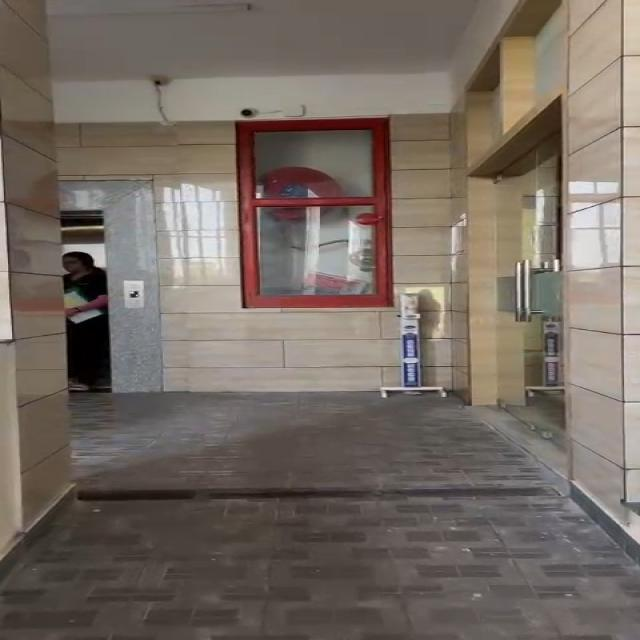floor: (59, 391, 556, 640)
moving_object: (38, 189, 144, 389)
wall: (432, 38, 640, 415), (0, 0, 68, 478)
